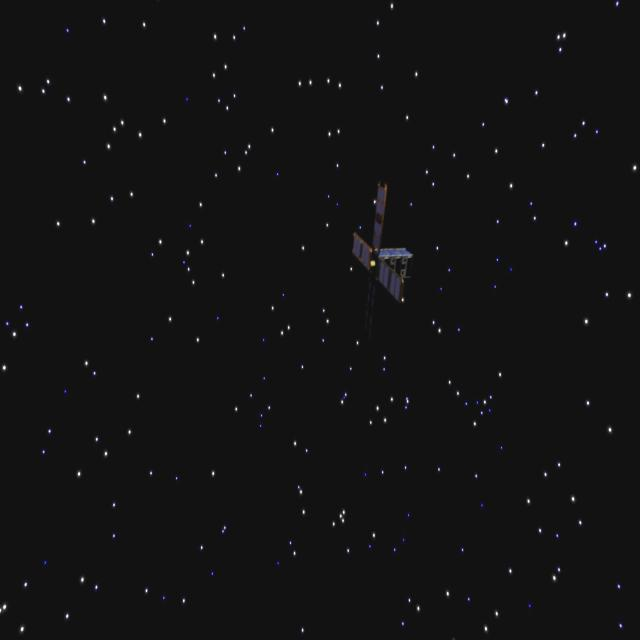satellite: (329, 180, 418, 308)
